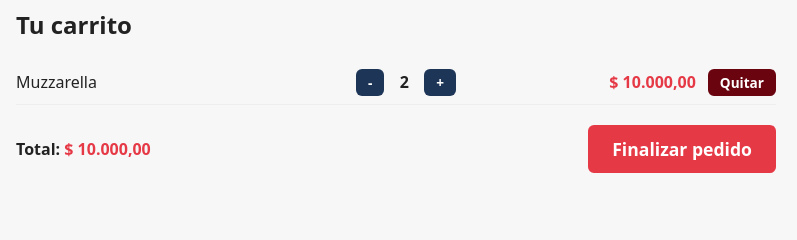
<CartPage> › muestra error si quitar falla
The image size is (797, 240).
Click the button "Quitar". click: (742, 82)
box: [708,69,776,96]
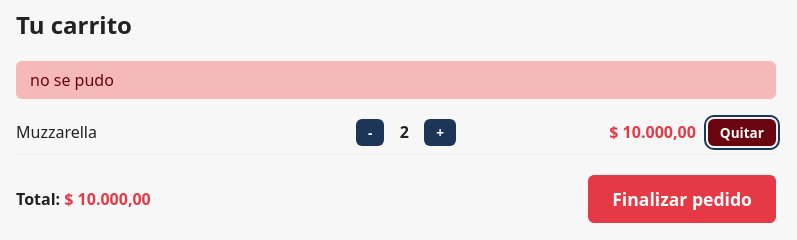
Result: the text "no se pudo" is shown at [16,61,776,99]
